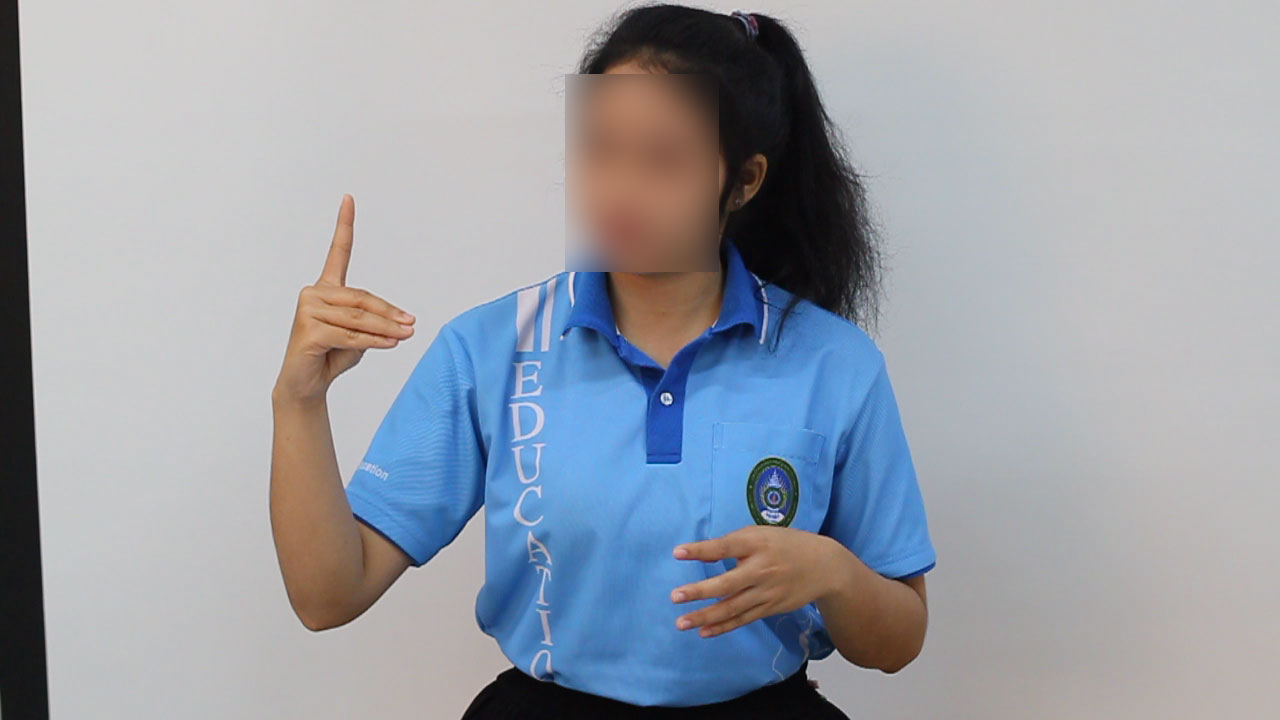dor: (260, 185, 423, 406)
